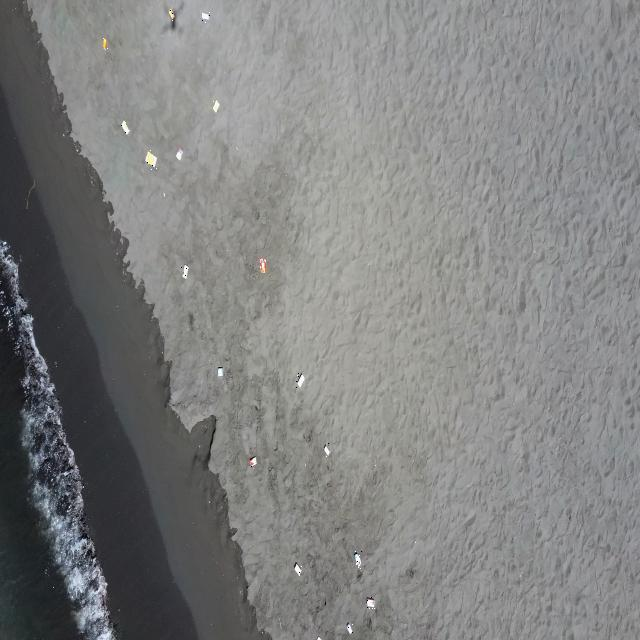Garbage: (144, 151, 156, 167), (353, 551, 360, 567), (259, 256, 266, 272), (120, 120, 128, 134), (296, 372, 303, 387), (168, 8, 175, 23), (247, 456, 256, 467), (366, 596, 375, 607), (293, 563, 300, 575), (181, 264, 187, 278), (212, 99, 219, 111), (101, 36, 107, 49), (200, 12, 208, 20), (216, 366, 223, 375), (176, 148, 181, 160), (324, 443, 329, 455), (347, 623, 352, 633), (316, 635, 320, 639), (163, 192, 164, 196)
